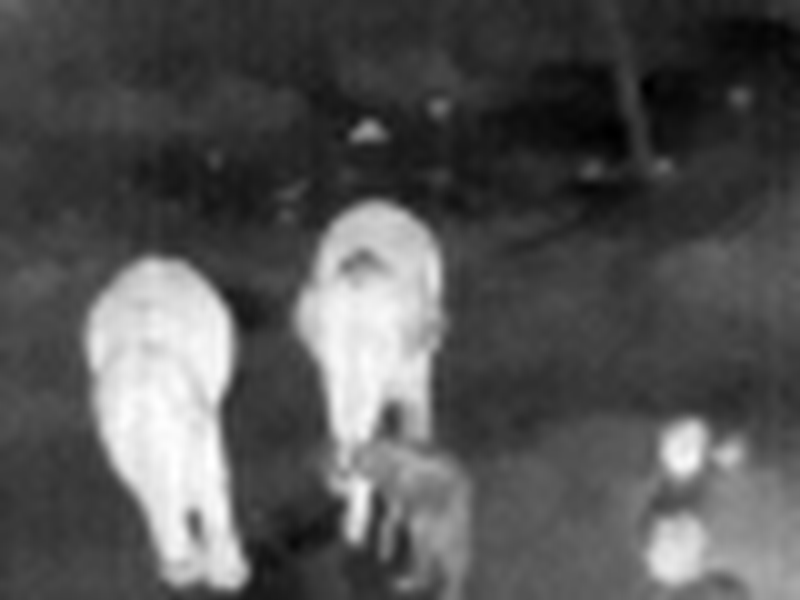elephant: (284, 209, 509, 600), (69, 251, 257, 561), (635, 415, 800, 600)
